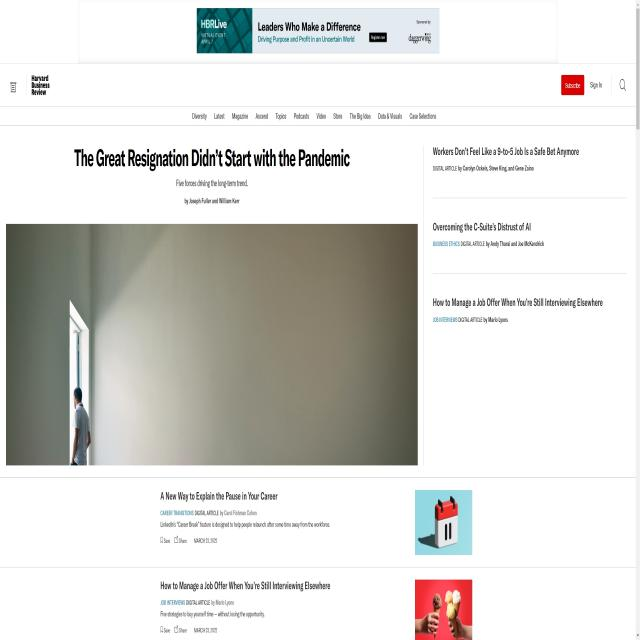menu-bar: (554, 68, 638, 106)
tab-bar: (190, 106, 437, 126)
